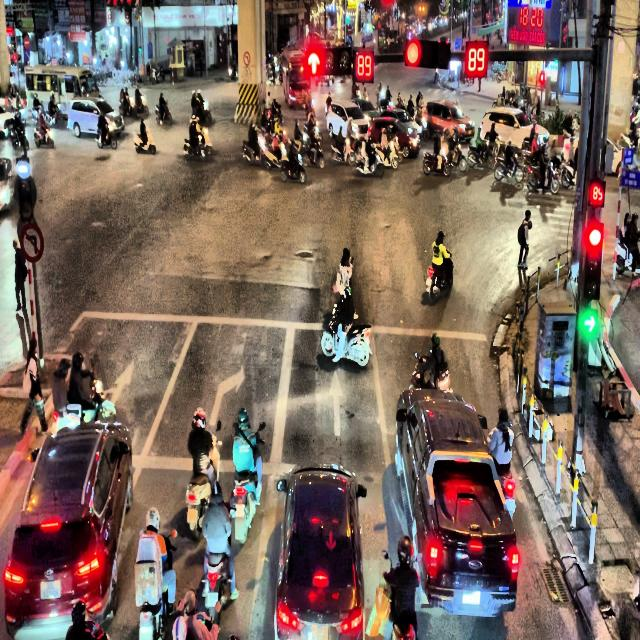lisence_plate: (38, 577, 62, 601), (460, 592, 481, 606)
